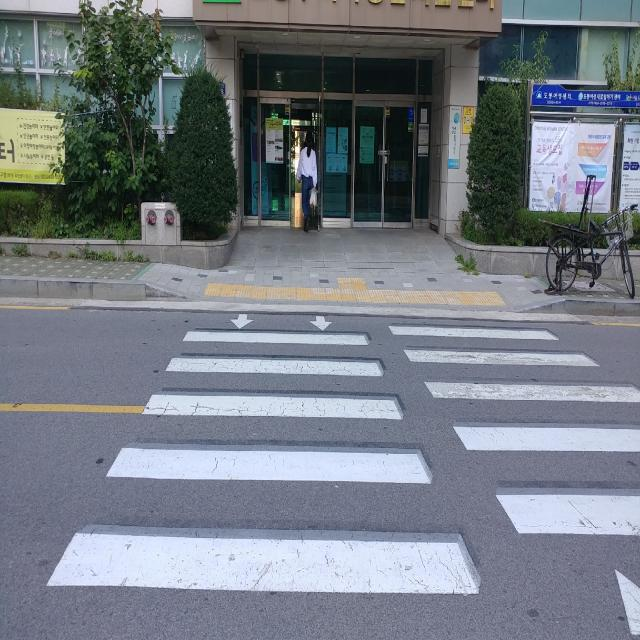횡단보도: (43, 310, 640, 640)
